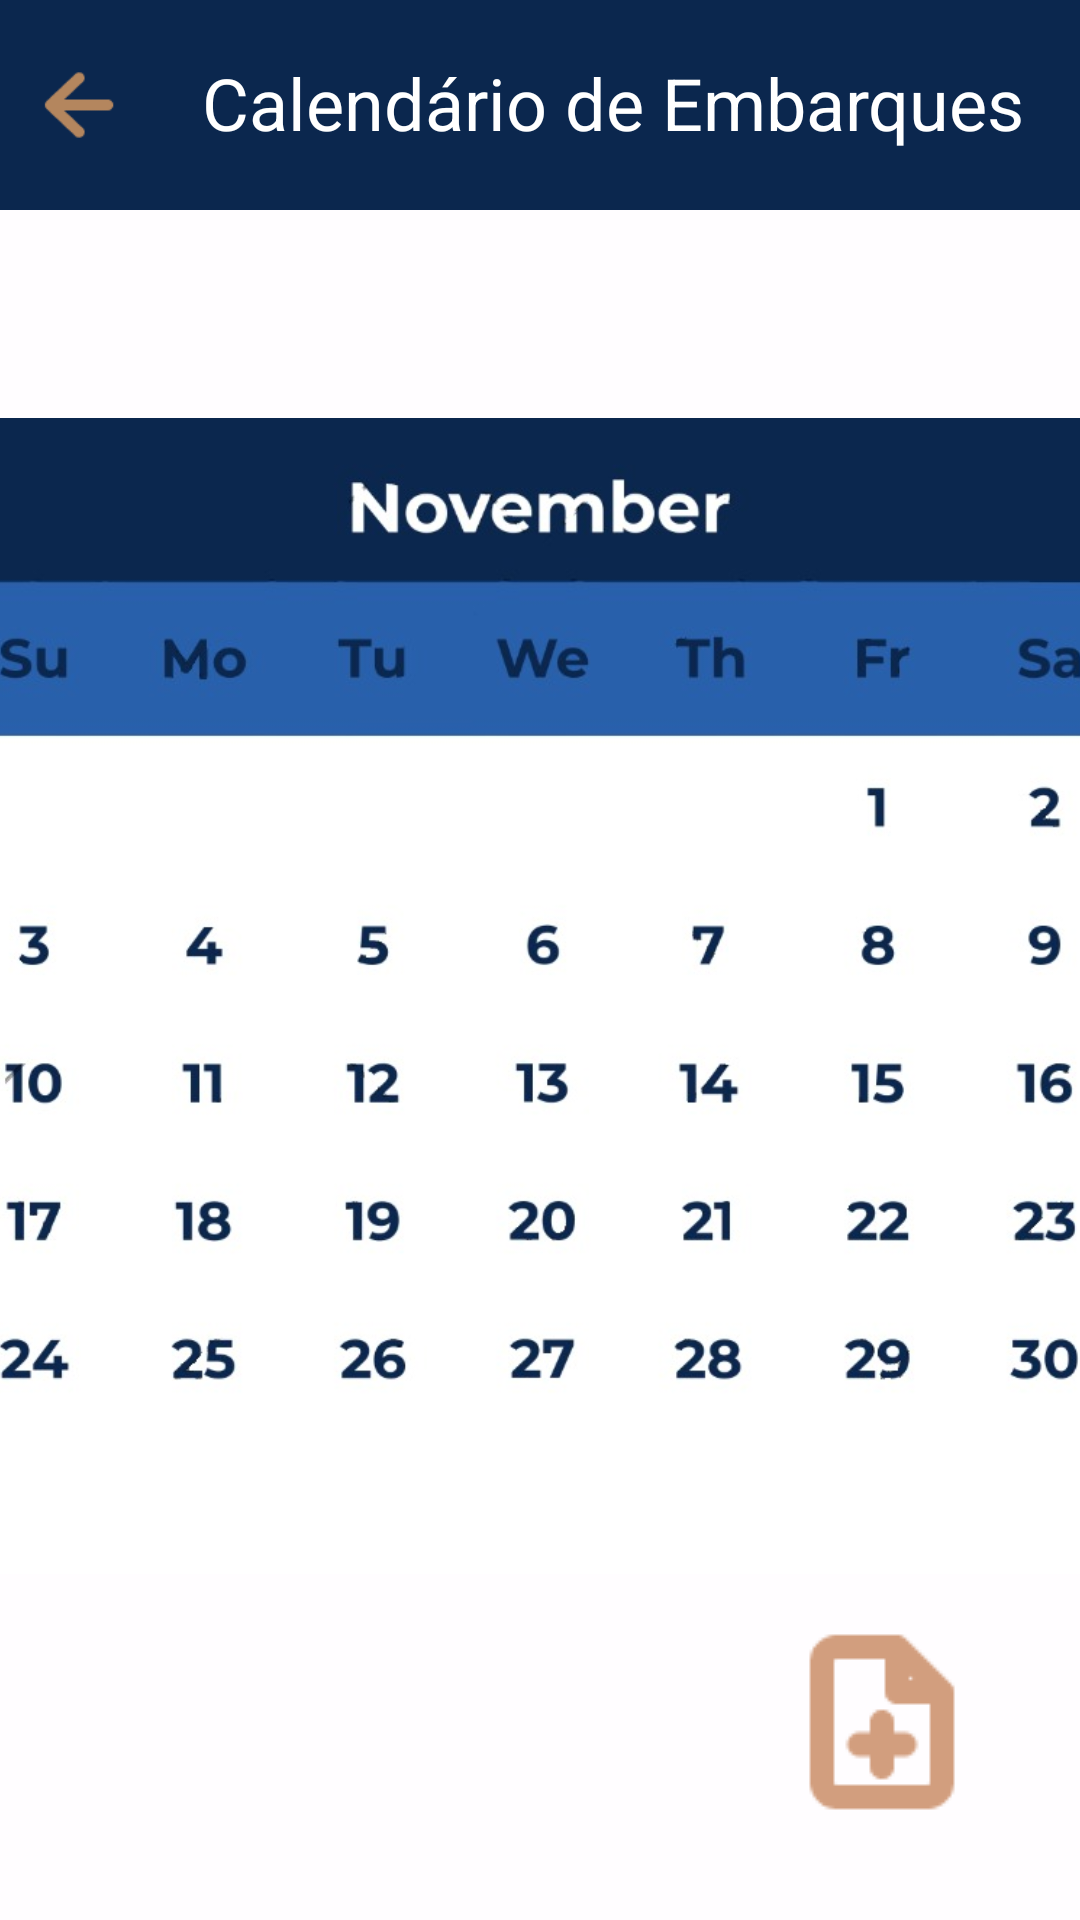

Named icons in this screenshot (1080*1920) and their bounding boxes, [x1=x1, y1=y1, x2=x2, y2=y2]:
Novo: [x1=809, y1=1634, x2=955, y2=1810]
Voltar: [x1=45, y1=72, x2=114, y2=138]
